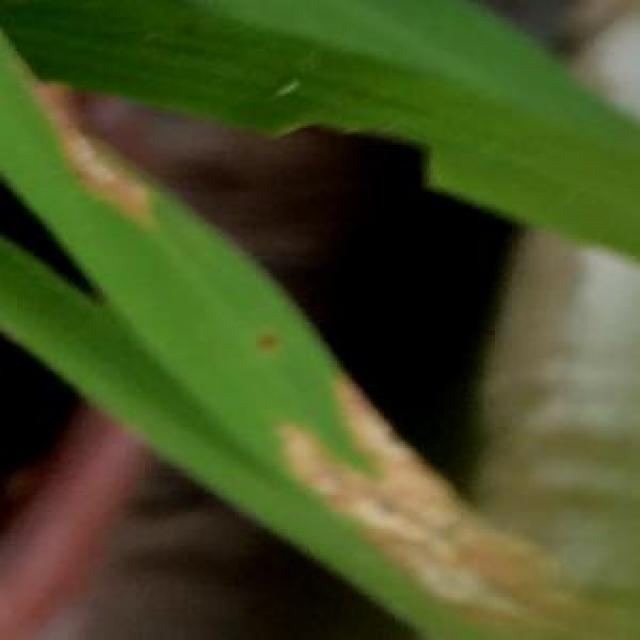Rice_Blast: (254, 318, 529, 610), (34, 76, 190, 232)
